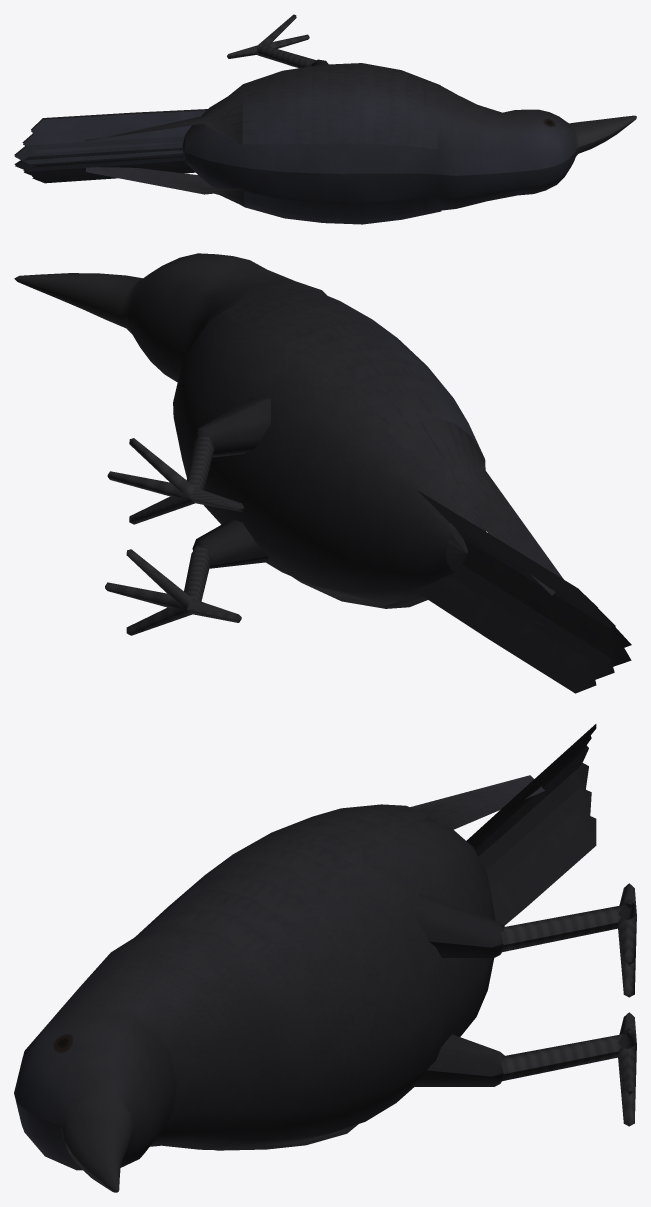
Rendered from bird_crow.obj.
3 views of the same model, one above another, from view 1: azimuth 30°, elevation 25°; view 2: azimuth 150°, elevation 25°; view 3: azimuth 270°, elevation 25° (orthographic). The views are drawn at different scales.
Visible parts, largest first — view 1: bird_crow; view 2: bird_crow; view 3: bird_crow.
Part boxes in pixels (box(x1,y1,x2,y2)): bird_crow: box(14, 14, 636, 224); bird_crow: box(14, 253, 631, 693); bird_crow: box(14, 724, 636, 1192).
Size of the model in its own units: 0.4626 by 0.13 by 0.2646.
Materials: 1 (1 with a texture image).
